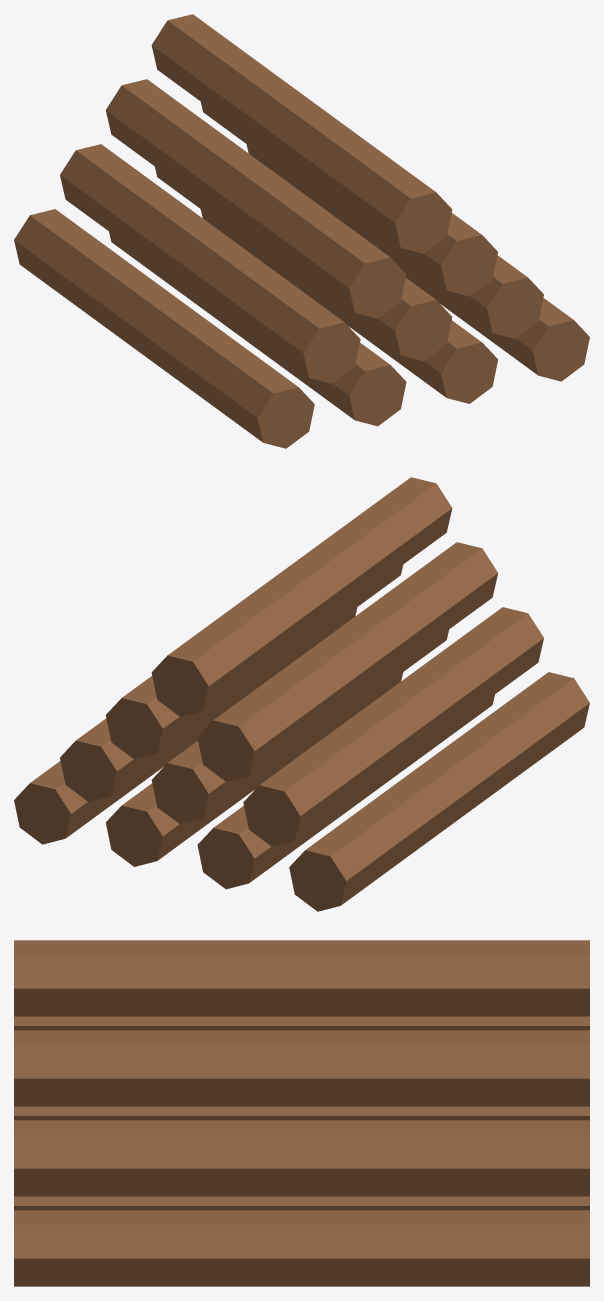
File: firewood_stack.fbx
3 views of the same model, one above another, from view 1: azimuth 30°, elevation 25°; view 2: azimuth 150°, elevation 25°; view 3: azimuth 270°, elevation 25° (orthographic). The views are drawn at different scales.
Parts seen in each view (by area): view 1: firewood_stack; view 2: firewood_stack; view 3: firewood_stack.
Boxes of the visible parts, x1=… form: firewood_stack: x1=14, y1=14, x2=589, y2=448; firewood_stack: x1=14, y1=477, x2=589, y2=911; firewood_stack: x1=14, y1=940, x2=589, y2=1286.
Bounding box in the file's own units: 394 × 249 × 500.
